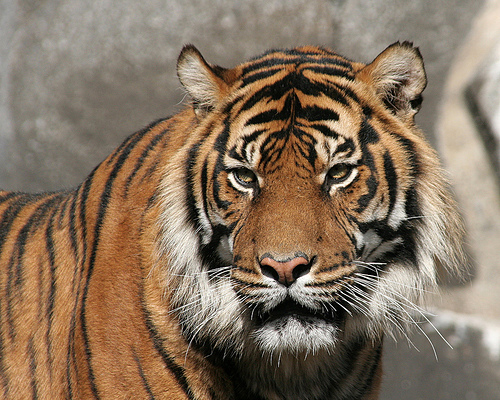Tigre: (8, 48, 444, 364)
